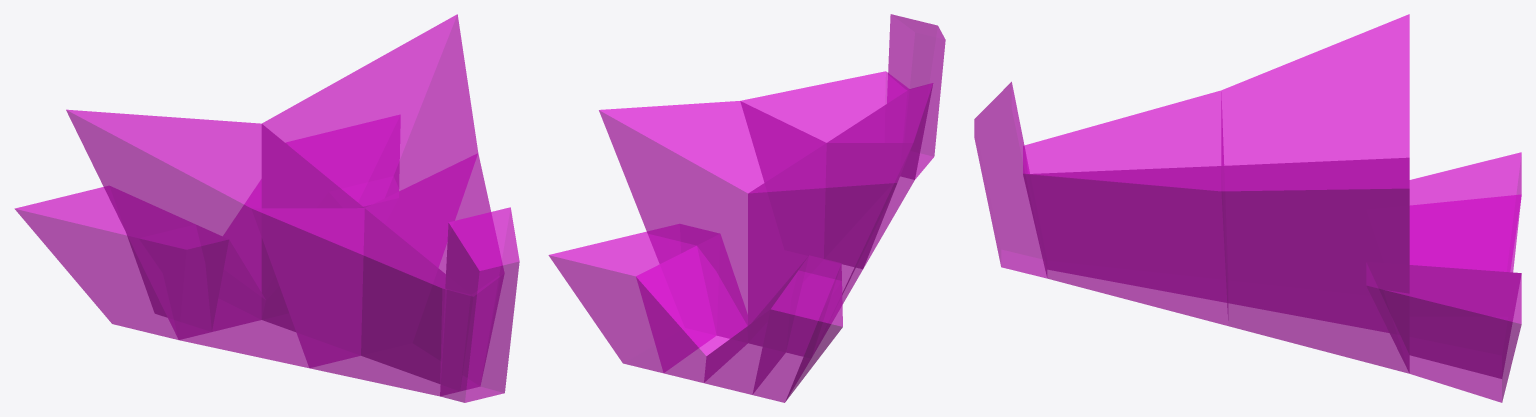
File: SM_Veh_Ship_L_Ram_04_Collision.fbx
3 views of the same model, side by side, from view 1: azimuth 30°, elevation 25°; view 2: azimuth 150°, elevation 25°; view 3: azimuth 270°, elevation 25° (orthographic). The views are drawn at different scales.
Parts seen in each view (by area): view 1: SM_Veh_Ship_L_Ram_04_Collision; view 2: SM_Veh_Ship_L_Ram_04_Collision; view 3: SM_Veh_Ship_L_Ram_04_Collision.
Boxes of the visible parts, x1,y1,x2,y2 form: SM_Veh_Ship_L_Ram_04_Collision: (14,14,519,402); SM_Veh_Ship_L_Ram_04_Collision: (548,14,945,402); SM_Veh_Ship_L_Ram_04_Collision: (974,14,1521,402).
Bounding box in the file's own units: 1002 × 681 × 1313.
